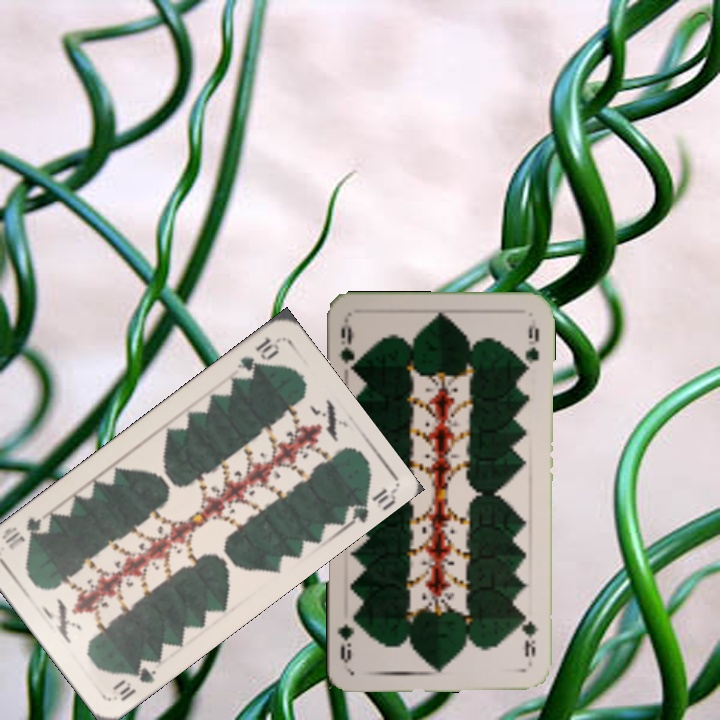G10: (108, 655, 159, 704), (233, 332, 283, 375)
G9: (336, 316, 361, 375), (519, 607, 541, 660)
